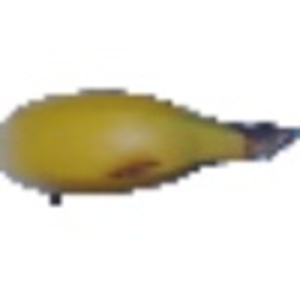banana: (7, 80, 281, 198)
